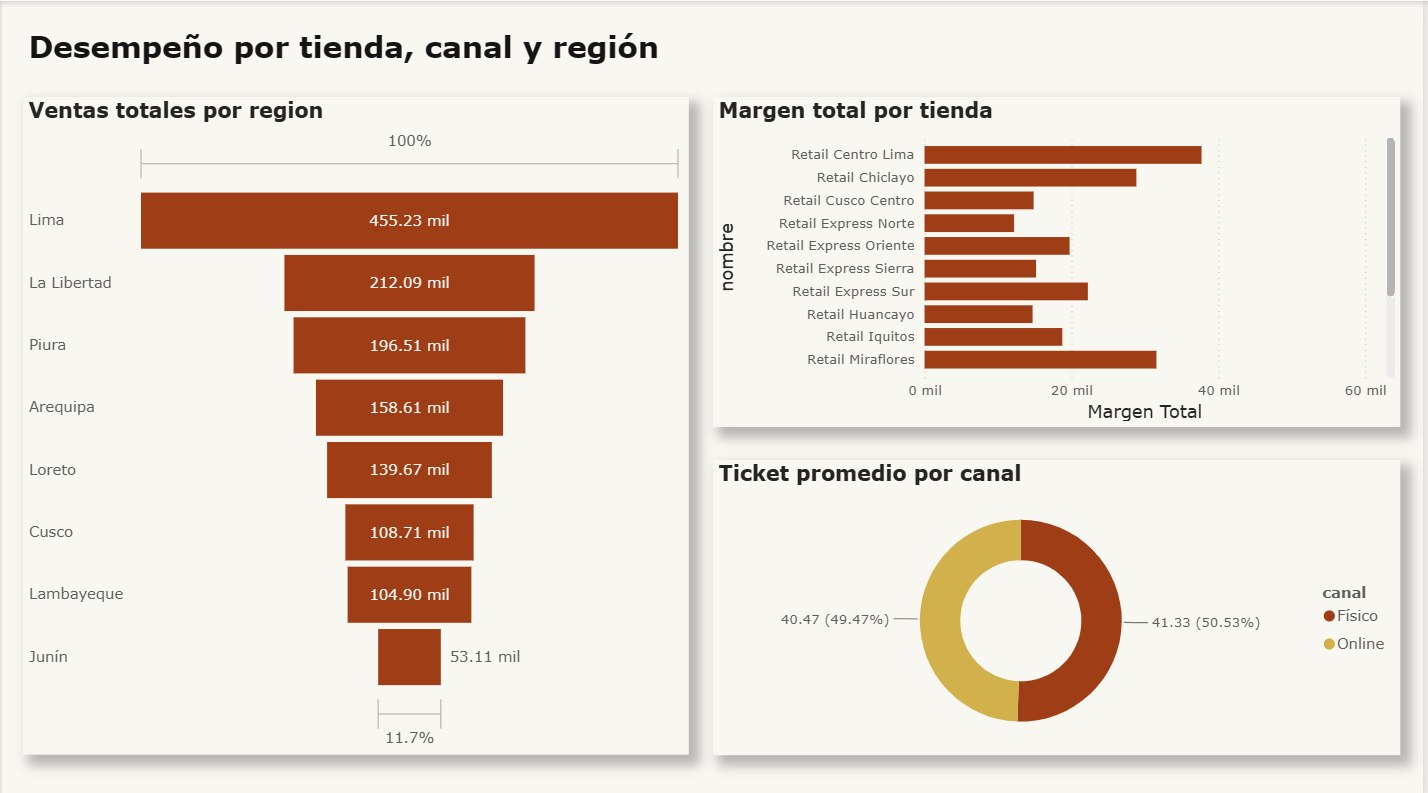

This screenshot's page, from the dashboard's own definition file:
{"tool":"powerbi","page":{"name":"03 Tienda Canal Region","canvas":[1280,720],"ordinal":2},"visuals":[{"type":"donutChart","title":"Ticket promedio por canal","fields":{"Category":["dim_tienda.canal"],"Y":["fact_ventas.Ticket Promedio"]},"box":[640.6,414.1,619.4,265.4],"z":0},{"type":"clusteredBarChart","title":"Margen total por tienda","fields":{"Category":["dim_tienda.nombre"],"Y":["fact_ventas.Margen Total"]},"box":[640.6,86.7,619.4,297.3],"z":1000},{"type":"funnel","title":"Ventas totales por region","fields":{"Category":["dim_tienda.region"],"Y":["fact_ventas.Ventas Totales"]},"box":[19.5,86.7,599.9,592.8],"z":2000},{"type":"slicer","fields":{"Values":["dim_tienda.canal"]},"box":[640,680,620,40],"z":3000},{"type":"textbox","box":[19.5,19.5,644.1,46],"z":4000}]}

Visuals, with their boxes in screenshot pixels (x1, y1, x2, y2), scaled from the page's 1280x720 canvas onto the 1428x793 screenshot:
"Ticket promedio por canal" donutChart: (left=715, top=456, right=1406, bottom=748)
"Margen total por tienda" clusteredBarChart: (left=715, top=95, right=1406, bottom=423)
"Ventas totales por region" funnel: (left=22, top=95, right=691, bottom=748)
slicer - dim_tienda.canal: (left=714, top=749, right=1406, bottom=792)
textbox: (left=22, top=21, right=740, bottom=72)
